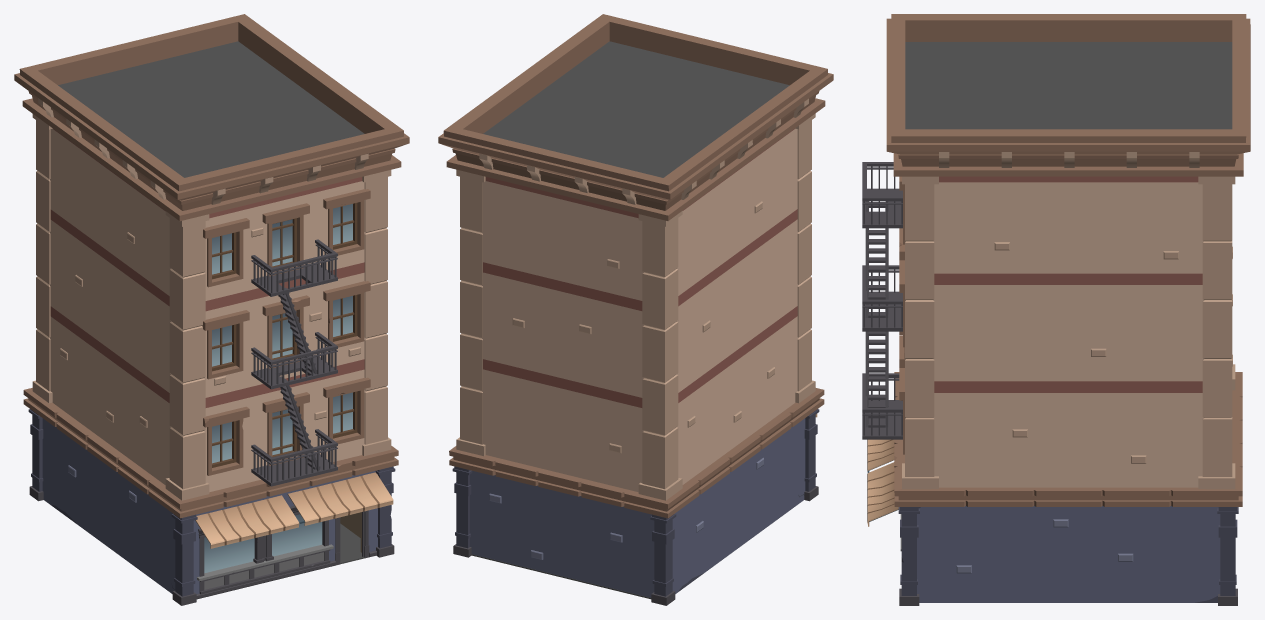
File: SM_Buildings_House_11_V1.fbx
3 renders of one model, left to right at view 1: azimuth 30°, elevation 25°; view 2: azimuth 150°, elevation 25°; view 3: azimuth 270°, elevation 25°, orthographic. The views are drawn at different scales.
Parts seen in each view (by area): view 1: SM_Buildings_House_11_V1; view 2: SM_Buildings_House_11_V1; view 3: SM_Buildings_House_11_V1.
Boxes of the visible parts, x1,y1,x2,y2 form: SM_Buildings_House_11_V1: (14,14,409,605); SM_Buildings_House_11_V1: (438,14,833,605); SM_Buildings_House_11_V1: (862,14,1250,605).
Size of the model in its own units: 10 by 17.49 by 13.
